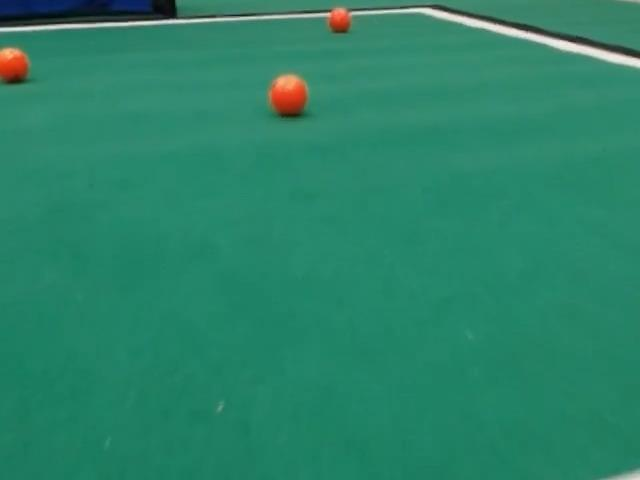Ball: (268, 74, 307, 116), (0, 47, 29, 83), (328, 8, 351, 33)
